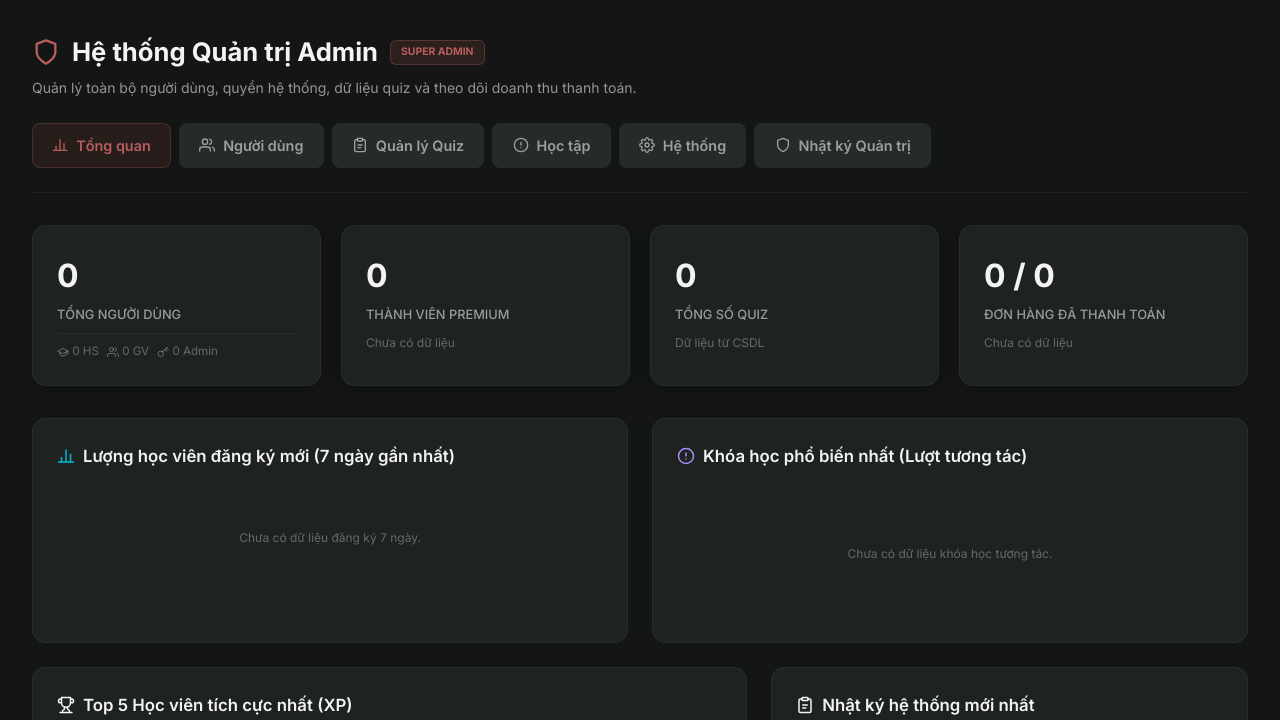
it: AdminPanelView — P2 Tests › US-ADM-005: User search — Input search email/username › renders search input in users tab
Click the tab with class "tab-btn" showing "Người dùng": (251, 145) [179,123,324,168]
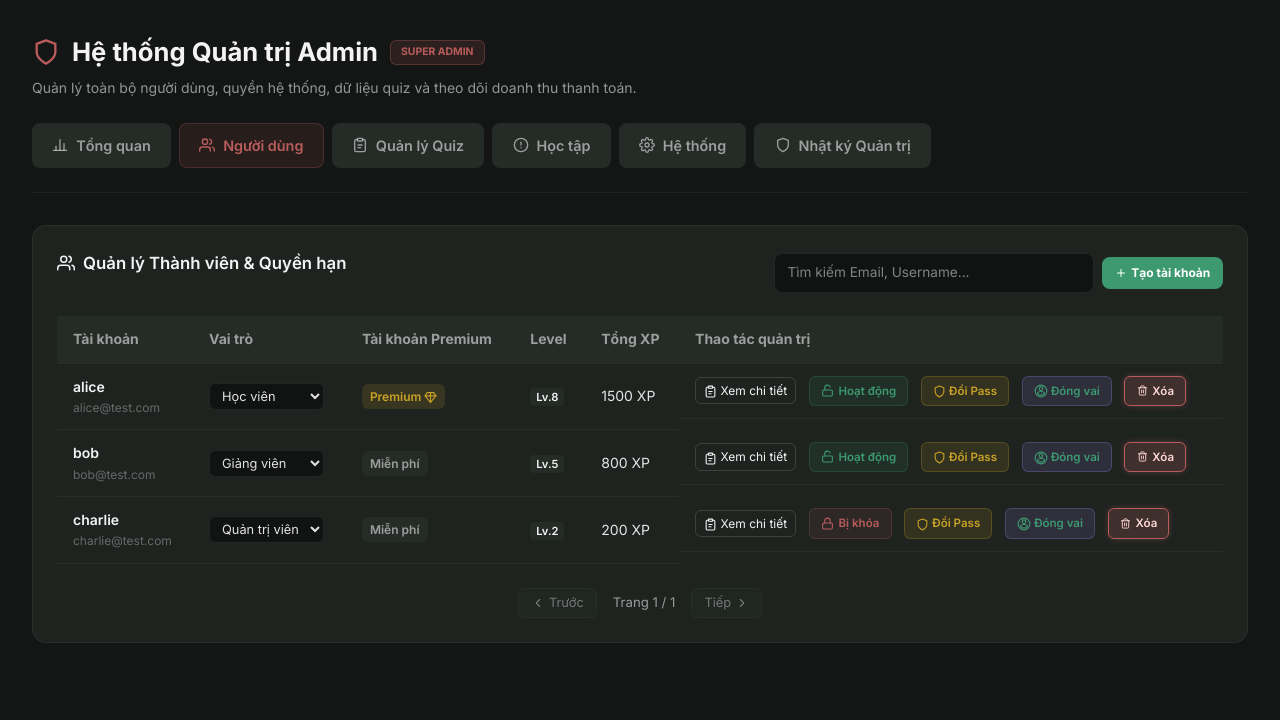
Expected: the field with class "search-input" is shown, [774,253,1094,293]
